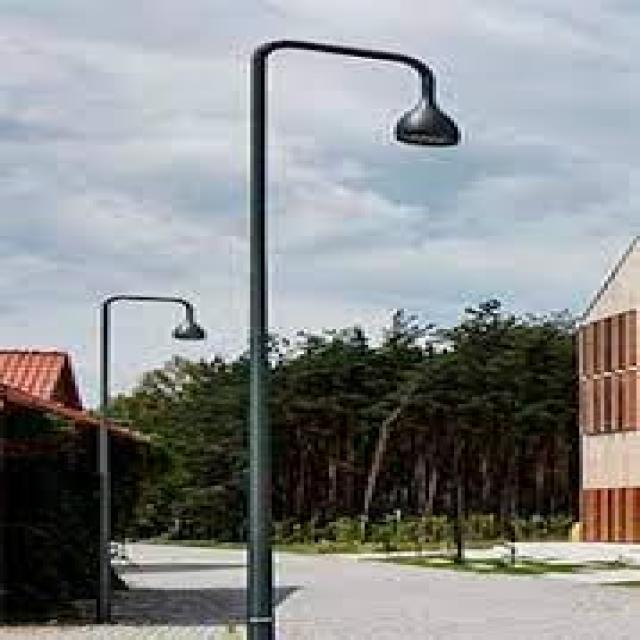pole: (218, 179, 300, 640)
